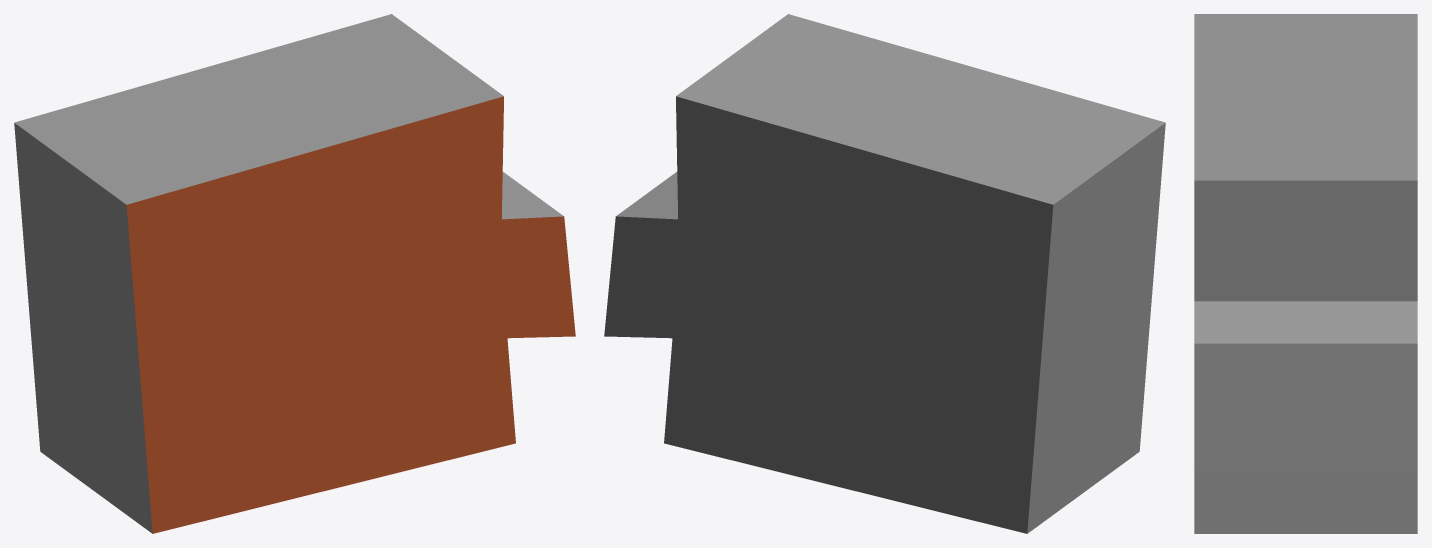
The model's file is construction_6421_assumed_A_Casa_h6m.obj.
The picture shows the model from 3 angles, left to right: view 1: azimuth 30°, elevation 25°; view 2: azimuth 150°, elevation 25°; view 3: azimuth 270°, elevation 25°; orthographic projection.
Visible parts, largest first — view 1: construction_6421_assumed_A_Casa; view 2: construction_6421_assumed_A_Casa; view 3: construction_6421_assumed_A_Casa.
Boxes of the visible parts, bbox=[...] form: construction_6421_assumed_A_Casa: bbox=[14, 14, 575, 533]; construction_6421_assumed_A_Casa: bbox=[604, 14, 1165, 533]; construction_6421_assumed_A_Casa: bbox=[1194, 14, 1417, 533].
Size of the model in its own units: 13.84 by 10.36 by 6.
